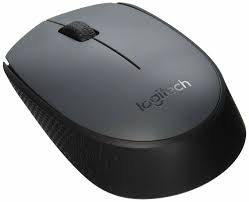mouse: (1, 3, 249, 202)
